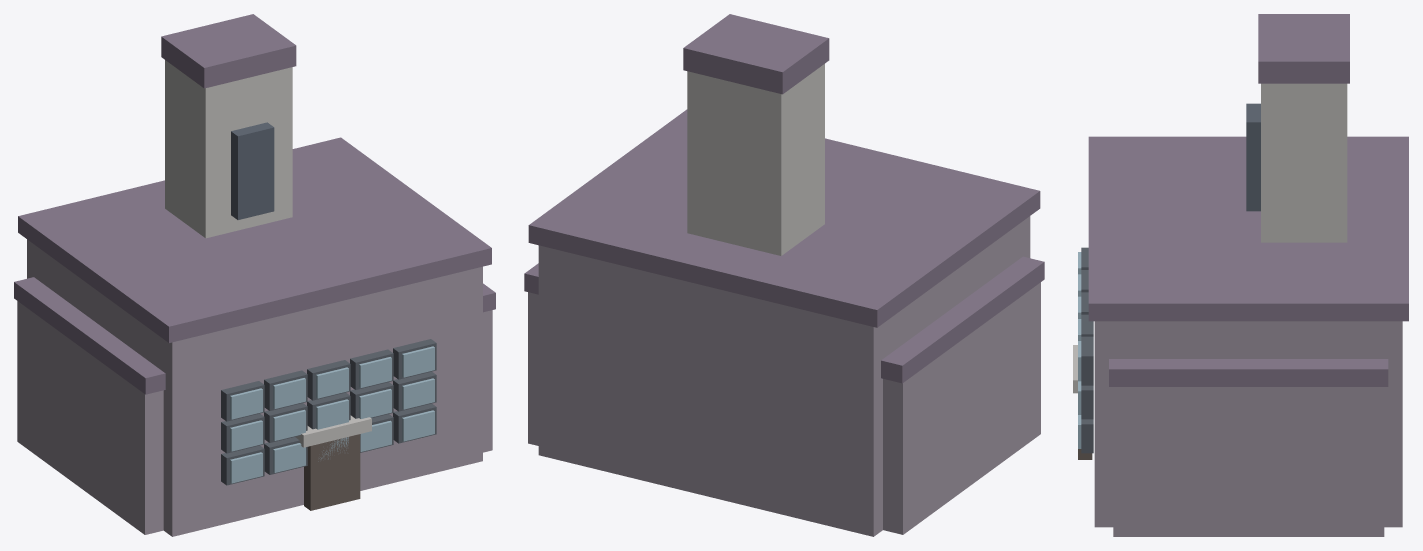
The model's file is university.glb.
3 renders of one model, left to right at view 1: azimuth 30°, elevation 25°; view 2: azimuth 150°, elevation 25°; view 3: azimuth 270°, elevation 25°, orthographic. The views are drawn at different scales.
Parts seen in each view (by area): view 1: world; view 2: world; view 3: world.
Boxes of the visible parts, x1=… form: world: x1=14, y1=14, x2=495, y2=536; world: x1=524, y1=14, x2=1044, y2=536; world: x1=1073, y1=14, x2=1408, y2=536.
Size of the model in its own units: 1.78 by 1.88 by 1.4.
